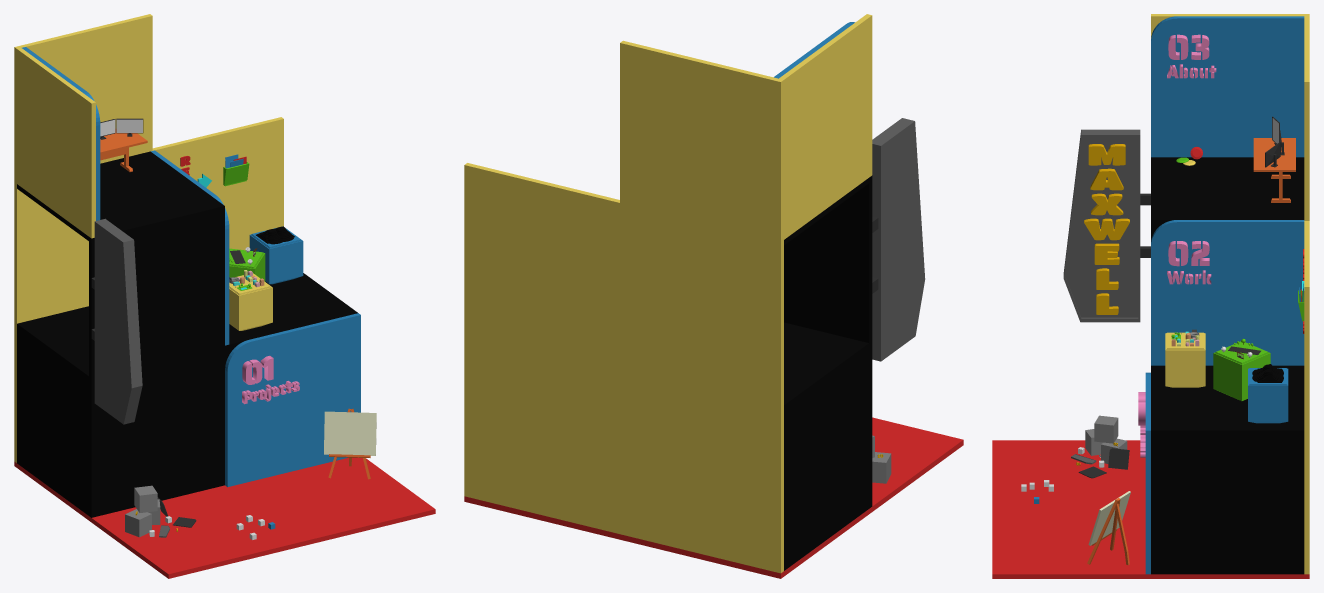
File: main.glb
3 views of the same model, side by side, from view 1: azimuth 30°, elevation 25°; view 2: azimuth 150°, elevation 25°; view 3: azimuth 270°, elevation 25° (orthographic). The views are drawn at different scales.
Parts seen in each view (by area): view 1: base_01_1, base_floor, base_backwall, 01_bg, base_02_1, base_03_2, base_03_1, billboard_main, base_03, base_01, canvas, terragraph_base (+10 smaller); view 2: base_backwall, base_03_1, base_01_1, base_03_2, billboard_main, base_02_1, base_floor; view 3: base_01, 03_bg, base_floor, 02_bg, billboard_main, base_03, billboard_text, base_backwall, terrazed_base, terragraph_base, rayban_base, base_03_1 (+10 smaller).
Part boxes in pixels (x1,y1,x2,y2): base_01_1: [17, 306, 224, 517]; base_floor: [14, 457, 435, 578]; base_backwall: [14, 117, 283, 462]; 01_bg: [225, 313, 360, 487]; base_02_1: [89, 211, 220, 378]; base_03_2: [17, 48, 95, 238]; base_03_1: [14, 14, 152, 183]; billboard_main: [94, 218, 142, 424]; base_03: [17, 151, 224, 242]; base_01: [225, 273, 357, 367]; canvas: [324, 411, 376, 455]; terragraph_base: [229, 273, 272, 330]; base_backwall: [464, 163, 783, 573]; base_03_1: [620, 40, 783, 241]; base_01_1: [784, 322, 872, 570]; base_03_2: [779, 14, 872, 239]; billboard_main: [872, 118, 925, 361]; base_02_1: [784, 181, 872, 342]; base_floor: [464, 417, 963, 578]; base_01: [1151, 365, 1304, 574]; 03_bg: [1151, 16, 1304, 157]; base_floor: [992, 440, 1309, 578]; 02_bg: [1151, 220, 1304, 365]; billboard_main: [1063, 129, 1140, 322]; base_03: [1151, 157, 1304, 224]; billboard_text: [1084, 144, 1129, 314]; base_backwall: [1304, 221, 1309, 574]; terrazed_base: [1213, 341, 1270, 400]; terragraph_base: [1165, 332, 1205, 387]; rayban_base: [1248, 368, 1288, 423]; base_03_1: [1304, 14, 1309, 220].
Bounding box in the file's own units: 121 × 180 × 120.
